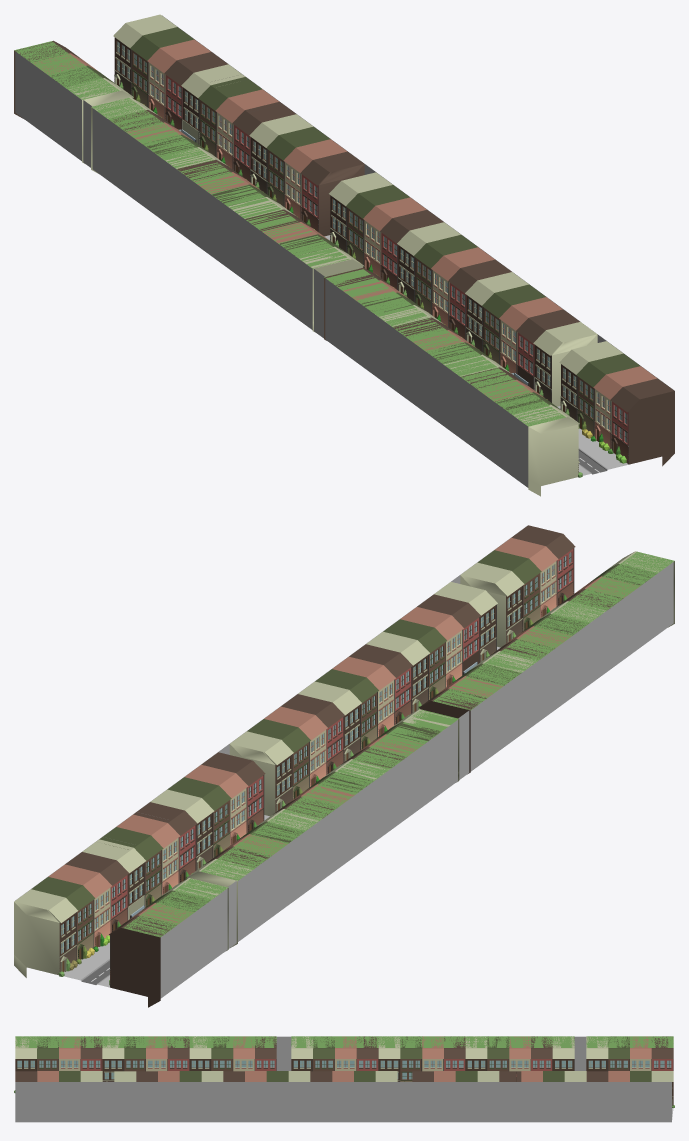
The model's file is level.roadmap.updated (1).fbx.
The picture shows the model from 3 angles, top to bottom: view 1: azimuth 30°, elevation 25°; view 2: azimuth 150°, elevation 25°; view 3: azimuth 270°, elevation 25°; orthographic projection. The views are drawn at different scales.
Parts seen in each view (by area): view 1: Icosphere.000, Icosphere.001; view 2: Icosphere.000, Icosphere.001; view 3: Icosphere.000, Icosphere.001.
Boxes of the visible parts, x1=… form: Icosphere.000: x1=14, y1=14, x2=674, y2=496; Icosphere.001: x1=15, y1=15, x2=674, y2=487; Icosphere.000: x1=14, y1=525, x2=674, y2=1007; Icosphere.001: x1=15, y1=525, x2=673, y2=998; Icosphere.000: x1=14, y1=1036, x2=674, y2=1107; Icosphere.001: x1=15, y1=1036, x2=673, y2=1122.
Bounding box in the file's own units: 3618 × 1789 × 22011.
